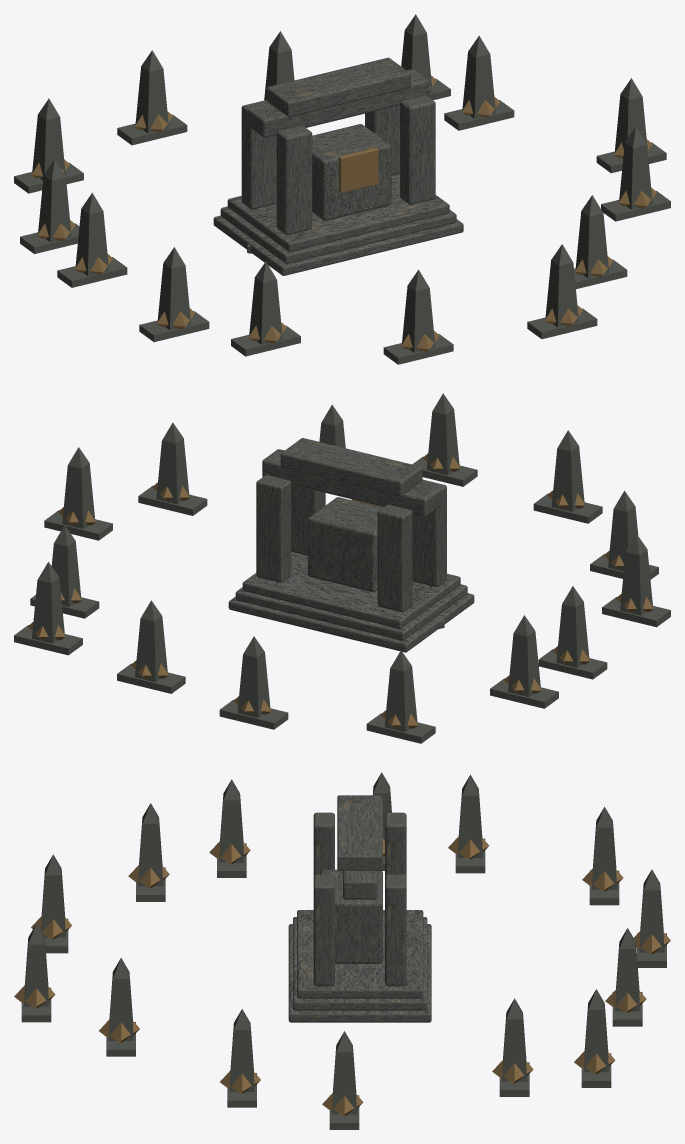
Rendered from AF_ShrineCourtyard_GN.glb.
3 views of the same model, one above another, from view 1: azimuth 30°, elevation 25°; view 2: azimuth 150°, elevation 25°; view 3: azimuth 270°, elevation 25° (orthographic). The views are drawn at different scales.
Parts seen in each view (by area): view 1: AF_ShrineCourtyard_GN; view 2: AF_ShrineCourtyard_GN; view 3: AF_ShrineCourtyard_GN.
Boxes of the visible parts, x1,y1,x2,y2 form: AF_ShrineCourtyard_GN: (14, 14, 670, 364); AF_ShrineCourtyard_GN: (14, 393, 670, 743); AF_ShrineCourtyard_GN: (14, 772, 670, 1129).
Bounding box in the file's own units: 11.43 × 2.93 × 11.04.
3 materials, 2 textured.
